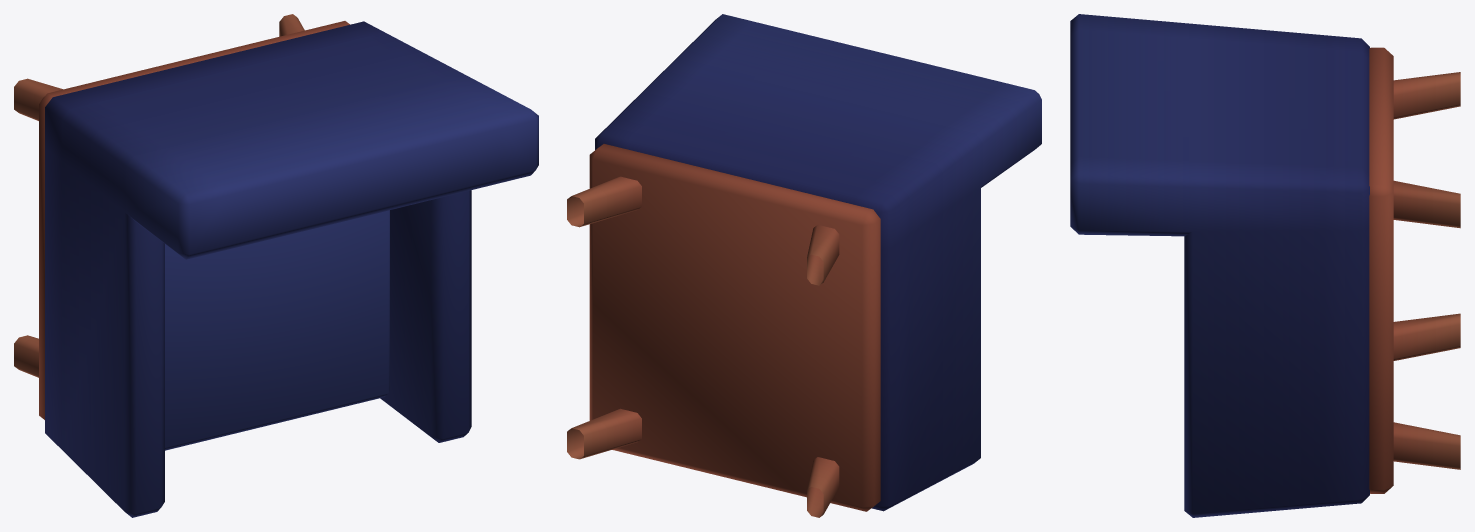
Rendered from ArmChairTestfbx.fbx.
3 renders of one model, left to right at view 1: azimuth 30°, elevation 25°; view 2: azimuth 150°, elevation 25°; view 3: azimuth 270°, elevation 25°, orthographic. The views are drawn at different scales.
Parts seen in each view (by area): view 1: ArmChair; view 2: ArmChair; view 3: ArmChair.
Part boxes in pixels (<box>): ArmChair: <box>14,14,538,517</box>; ArmChair: <box>567,14,1041,517</box>; ArmChair: <box>1070,14,1460,517</box>.
Bounding box in the file's own units: 1.99 × 1.96 × 1.98.
